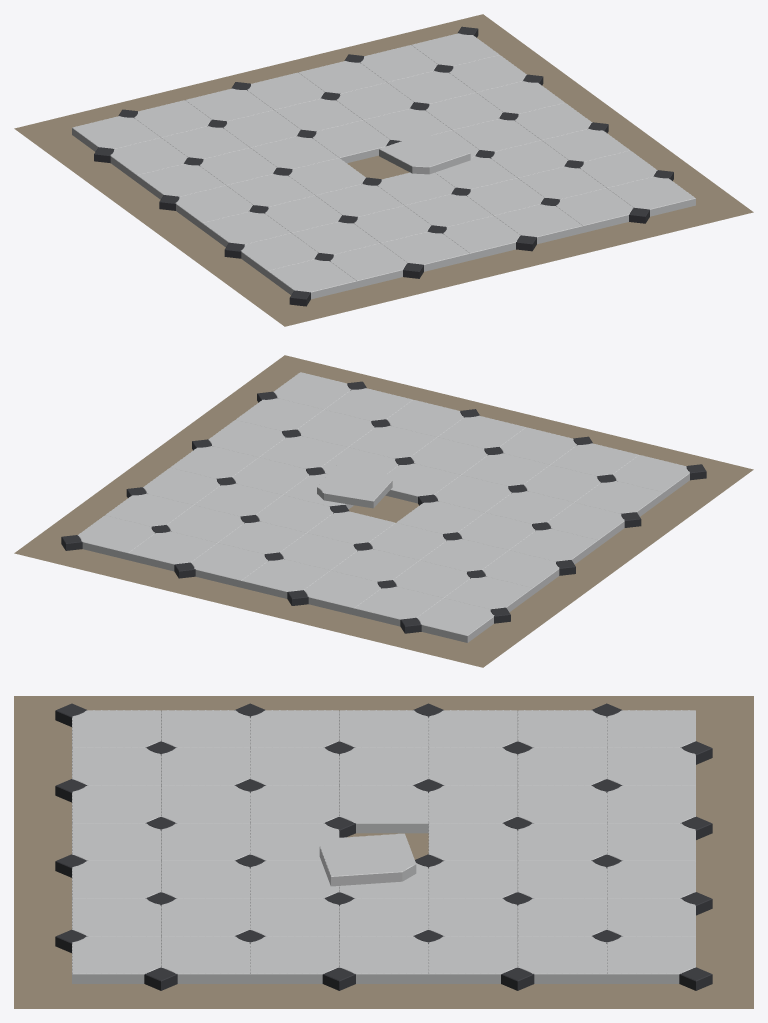
Rendered from terilgan.glb.
The picture shows the model from 3 angles, top to bottom: view 1: azimuth 30°, elevation 25°; view 2: azimuth 150°, elevation 25°; view 3: azimuth 270°, elevation 25°; orthographic projection. The views are drawn at different scales.
Parts seen in each view (by area): view 1: qum, t.046, t.003, t.033, t.015, t.055, t.034, t.004, t.016, t.044, t.019, t.001 (+37 smaller); view 2: qum, t.046, t.037, t.038, t.072, t.058, t.071, t.079, t.057, t.009, t.021, t.003 (+38 smaller); view 3: qum, t.046, t.025, t.053, t.067, t.075, t.077, t.069, t.055, t.079, t.041, t.050 (+42 smaller).
Boxes of the visible parts, x1,y1,x2,y2 form: qum: (14, 14, 753, 326); t.046: (379, 134, 470, 174); t.003: (267, 259, 356, 299); t.033: (494, 204, 582, 244); t.015: (381, 232, 469, 271); t.055: (607, 176, 695, 216); t.034: (556, 188, 633, 232); t.004: (330, 243, 407, 287); t.016: (443, 216, 520, 260); t.044: (313, 120, 389, 163); t.019: (110, 138, 187, 182); t.001: (241, 233, 318, 277); qum: (14, 355, 753, 667); t.046: (317, 465, 392, 508); t.037: (417, 598, 494, 642); t.038: (354, 586, 443, 626); t.072: (128, 531, 217, 571); t.058: (241, 559, 330, 598); t.071: (191, 543, 267, 587); t.079: (77, 515, 154, 559); t.057: (304, 570, 380, 615); t.009: (547, 502, 624, 547); t.021: (482, 550, 559, 594); t.003: (613, 455, 689, 499); qum: (14, 696, 753, 1008); t.046: (319, 833, 416, 886); t.025: (339, 785, 428, 833); t.053: (161, 936, 250, 983); t.067: (339, 936, 428, 983); t.075: (517, 936, 606, 983); t.077: (428, 936, 517, 983); t.069: (250, 936, 339, 983); t.055: (72, 936, 160, 983); t.079: (607, 936, 695, 983); t.041: (517, 785, 606, 823); t.050: (250, 898, 339, 936).
Size of the model in its own units: 1.66 by 0.052 by 1.66.
